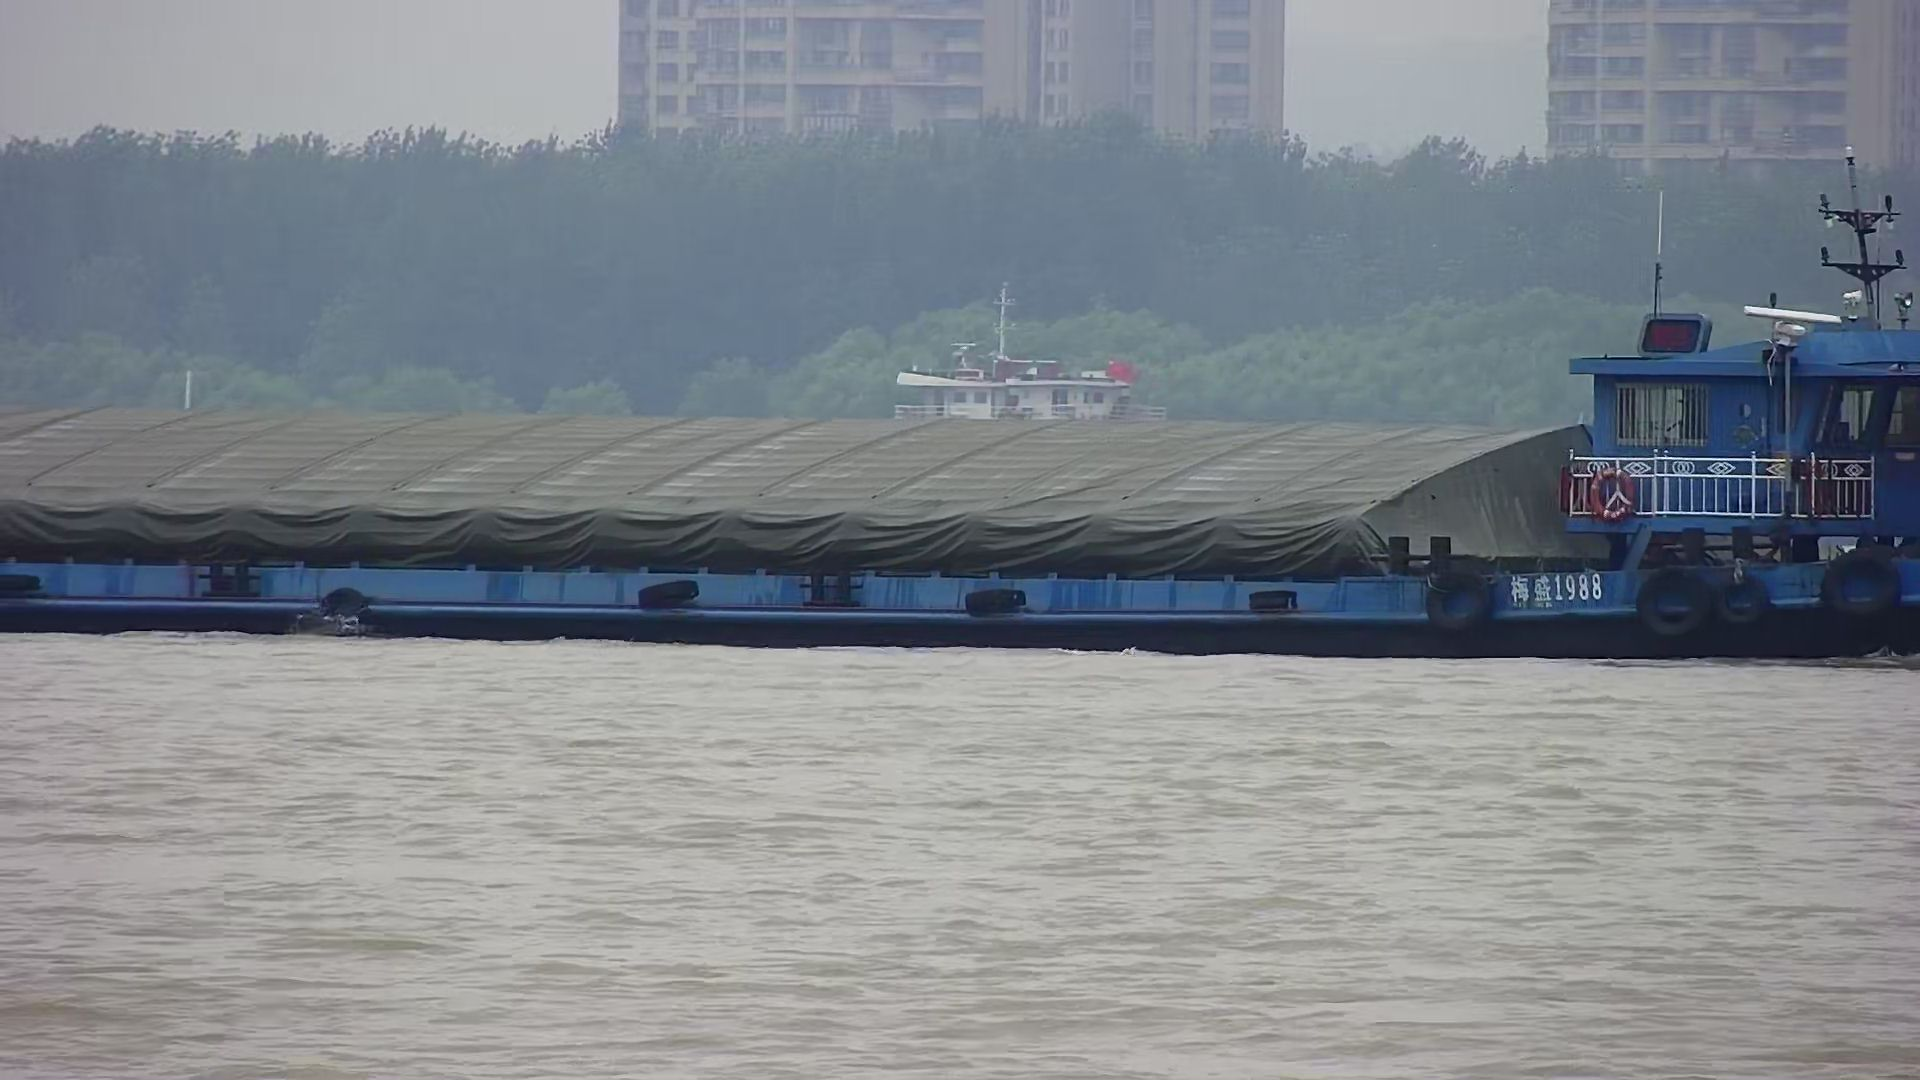ship: (3, 144, 1919, 669)
